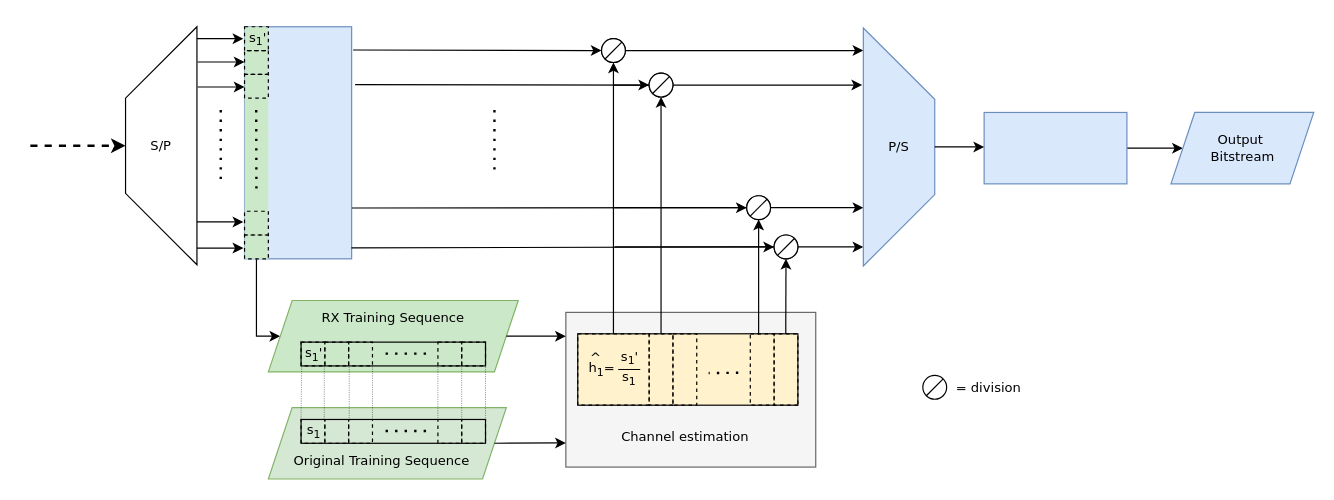
The diagram is 1334 pixels wide and 500 high, and some of its shapes have lost their labels. The centre of each missing label's shape, as x and y in pixels:
"Input Bitstream" goes at (297,142).
"QPSK de-modulation" goes at (1055,147).
